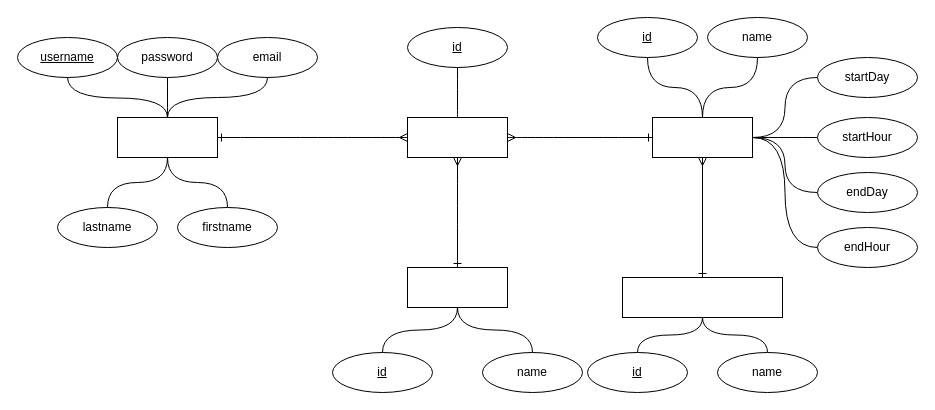
Image size: 935x410. Some labels were removed from this diagram. The centre of each missing label's shape, as x and y in pixels:
CATEGORY_TASK: (x=702, y=297)
STATUS: (x=457, y=287)
TASK: (x=702, y=137)
USER: (x=167, y=137)
USER_TASK: (x=457, y=137)
